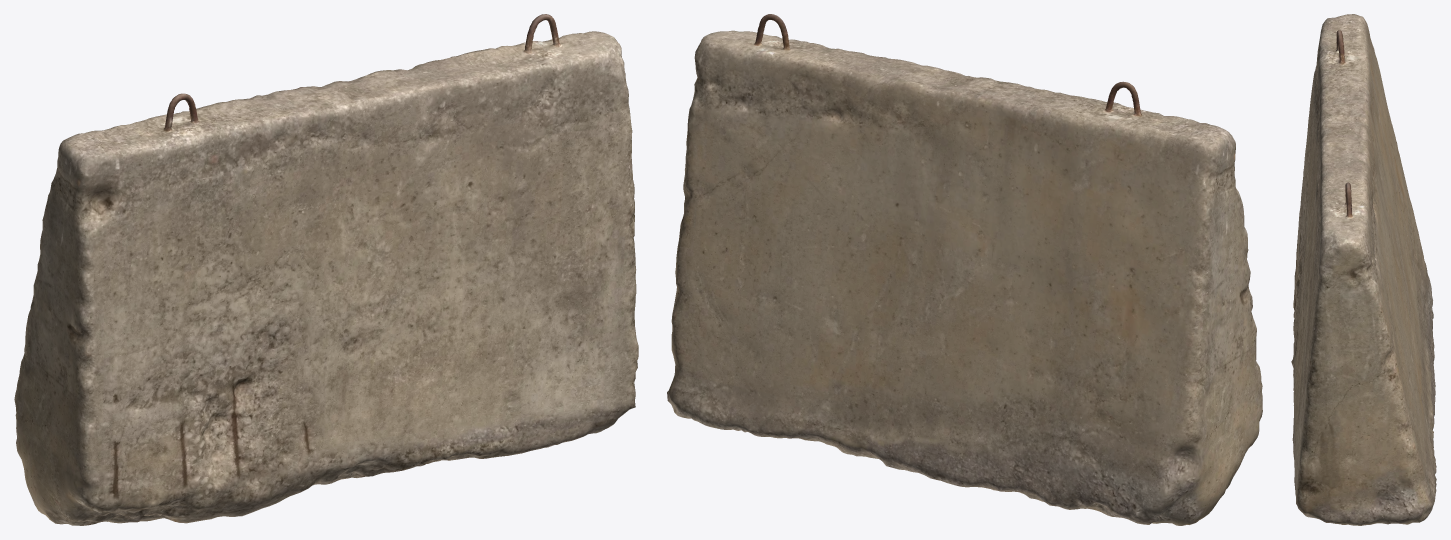
File: concrete_road_barrier_02.glb
3 renders of one model, left to right at view 1: azimuth 30°, elevation 25°; view 2: azimuth 150°, elevation 25°; view 3: azimuth 270°, elevation 25°, orthographic. The views are drawn at different scales.
Parts seen in each view (by area): view 1: concrete_road_barrier_02; view 2: concrete_road_barrier_02; view 3: concrete_road_barrier_02.
Boxes of the visible parts, x1,y1,x2,y2 form: concrete_road_barrier_02: (14,14,638,525); concrete_road_barrier_02: (667,14,1262,525); concrete_road_barrier_02: (1291,14,1436,525).
Bounding box in the file's own units: 1.57 × 1.11 × 0.4421.
1 material, 1 textured.
